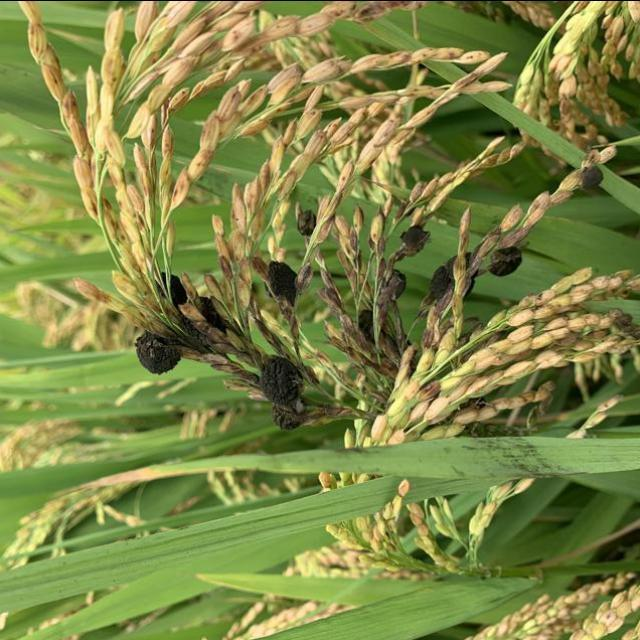Leaf_Scald: (131, 272, 185, 372), (259, 352, 309, 432), (425, 246, 476, 308), (262, 258, 301, 304), (485, 242, 527, 278), (572, 158, 606, 192), (398, 220, 430, 256), (294, 206, 322, 238)
